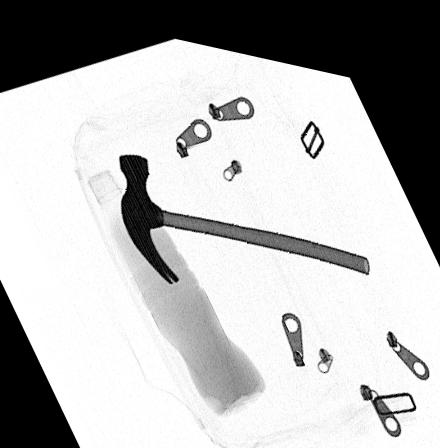Hammer: (119, 148, 371, 276)
